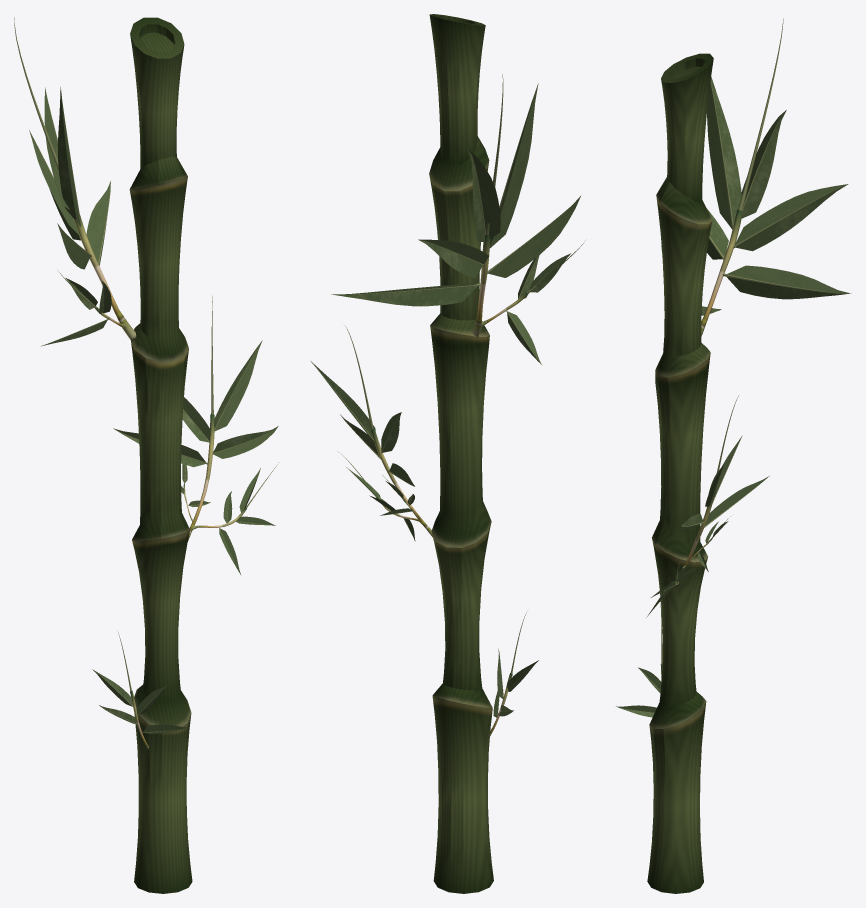
Rendered from Bambus 3.fbx.
The picture shows the model from 3 angles, left to right: view 1: azimuth 30°, elevation 25°; view 2: azimuth 150°, elevation 25°; view 3: azimuth 270°, elevation 25°; orthographic projection. The views are drawn at different scales.
Parts seen in each view (by area): view 1: Cylinder.030, BambusSmallBranch3.011; view 2: Cylinder.030, BambusSmallBranch3.011; view 3: Cylinder.030, BambusSmallBranch3.011.
Part boxes in pixels (x1=…): Cylinder.030: x1=129, y1=17, x2=192, y2=893; BambusSmallBranch3.011: x1=14, y1=17, x2=279, y2=749; Cylinder.030: x1=429, y1=14, x2=493, y2=893; BambusSmallBranch3.011: x1=310, y1=74, x2=585, y2=736; Cylinder.030: x1=647, y1=53, x2=713, y2=893; BambusSmallBranch3.011: x1=616, y1=18, x2=851, y2=717.
Bounding box in the file's own units: 0.6696 × 2.29 × 0.5934.
5 materials, 4 textured.
